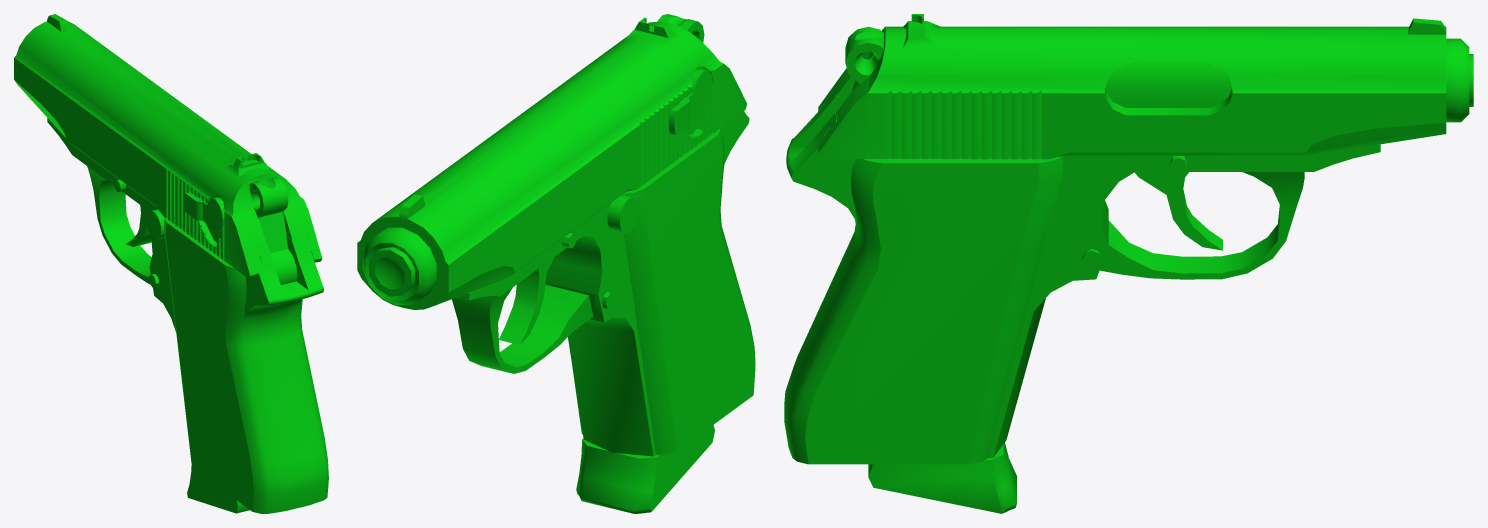
The model's file is Walther PPK Original.fbx.
3 renders of one model, left to right at view 1: azimuth 30°, elevation 25°; view 2: azimuth 150°, elevation 25°; view 3: azimuth 270°, elevation 25°, orthographic. The views are drawn at different scales.
Parts seen in each view (by area): view 1: Body, Slide, Hammer, Magazine, Trigger; view 2: Body, Slide, Magazine, Trigger, Hammer; view 3: Body, Slide, Magazine, Trigger, Hammer.
Part boxes in pixels (left/top/right/bottom): Body: left=47, top=118, right=328, bottom=513; Slide: left=14, top=14, right=322, bottom=278; Hammer: left=249, top=177, right=297, bottom=284; Magazine: left=187, top=465, right=249, bottom=513; Trigger: left=126, top=206, right=151, bottom=246; Body: left=369, top=111, right=755, bottom=456; Slide: left=357, top=17, right=746, bottom=309; Magazine: left=576, top=425, right=714, bottom=513; Trigger: left=499, top=257, right=554, bottom=344; Hammer: left=657, top=14, right=704, bottom=42; Body: left=784, top=54, right=1473, bottom=464; Slide: left=818, top=14, right=1469, bottom=159; Magazine: left=868, top=442, right=1016, bottom=513; Trigger: left=1135, top=172, right=1222, bottom=250; Hammer: left=845, top=26, right=883, bottom=92.
Bounding box in the file's own units: 129 × 564 × 741.
